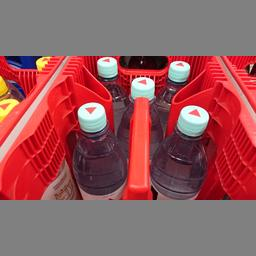water: (148, 105, 212, 198), (68, 100, 126, 198)
